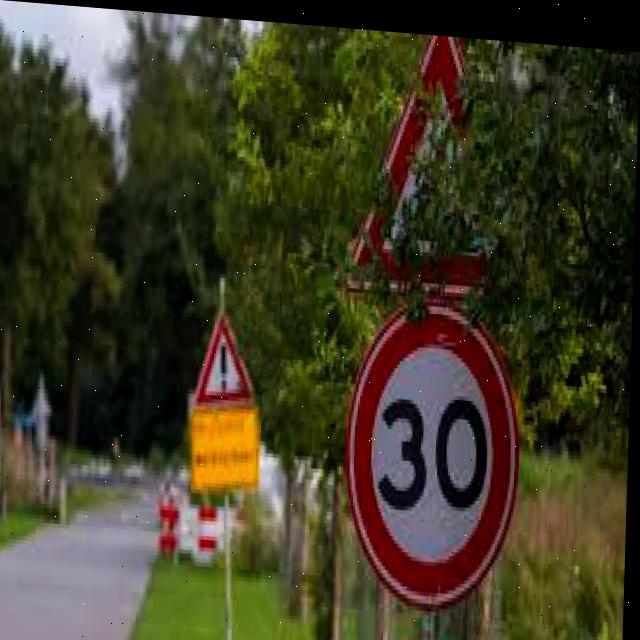Speed limit 30: (342, 275, 528, 611)
